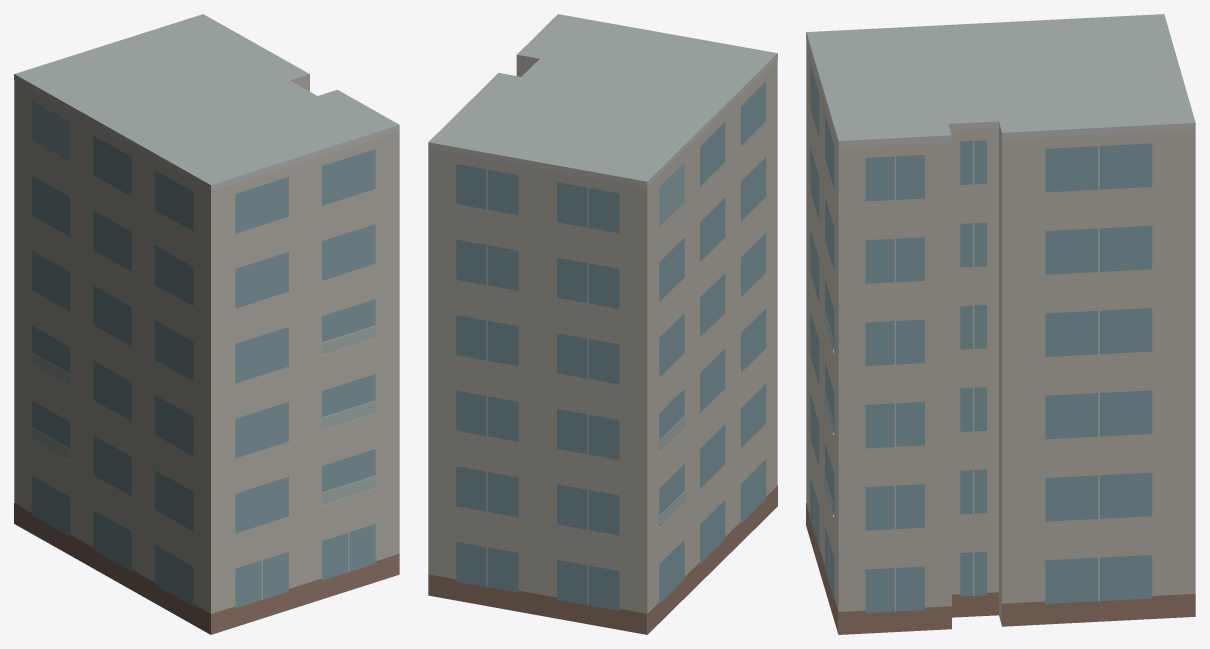
File: survey-upis-32741415.glb
3 views of the same model, side by side, from view 1: azimuth 30°, elevation 25°; view 2: azimuth 150°, elevation 25°; view 3: azimuth 270°, elevation 25° (orthographic). The views are drawn at different scales.
Parts seen in each view (by area): view 1: survey-upis-32741415.tmp; view 2: survey-upis-32741415.tmp; view 3: survey-upis-32741415.tmp.
Boxes of the visible parts, x1=… form: survey-upis-32741415.tmp: x1=14, y1=14, x2=399, y2=634; survey-upis-32741415.tmp: x1=428, y1=14, x2=777, y2=634; survey-upis-32741415.tmp: x1=806, y1=14, x2=1195, y2=634.
Bounding box in the file's own units: 9.89 × 17.9 × 12.8.
